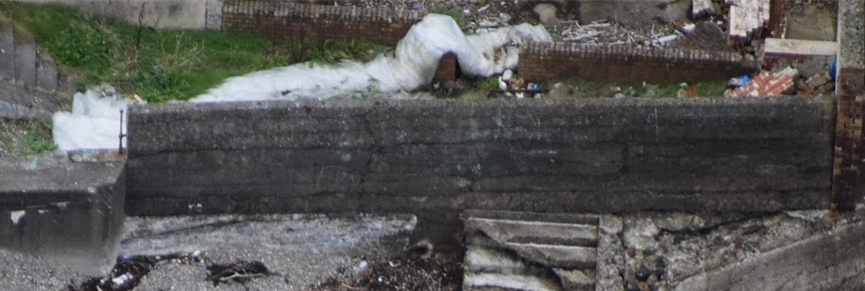net: (238, 10, 547, 99)
together_barrel: (494, 46, 544, 101)
white_in_green: (721, 51, 774, 102)
